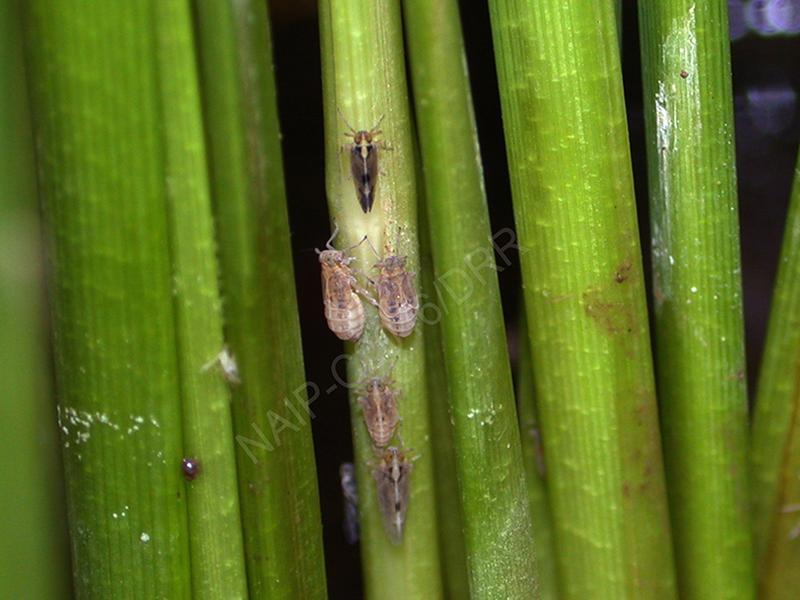White_backed_plant_hopper: (300, 237, 369, 354), (337, 107, 386, 218), (377, 251, 420, 345), (376, 449, 416, 550), (353, 373, 401, 443)
